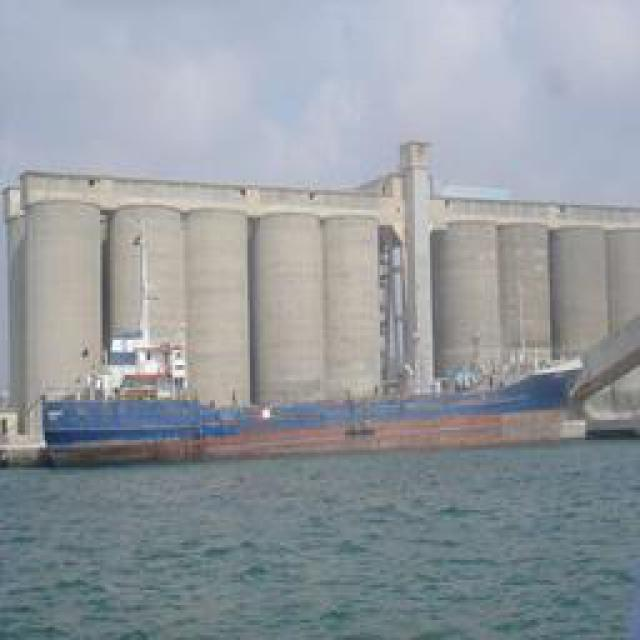Ship: (22, 387, 575, 465)
